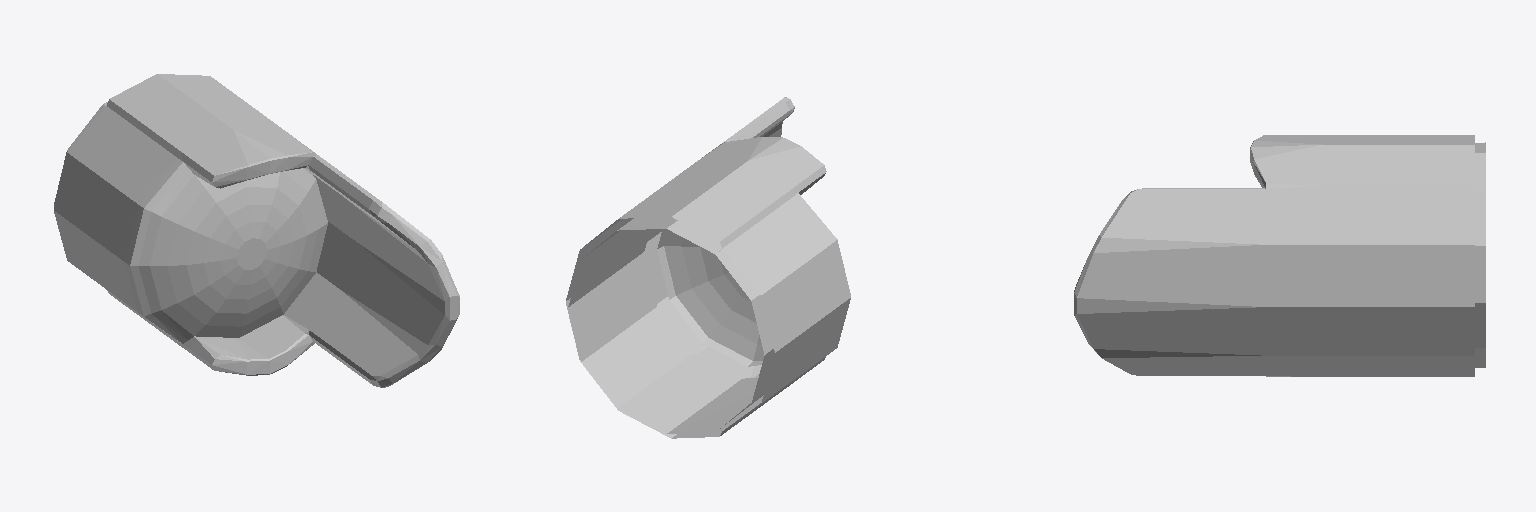
The model's file is Chair.obj.
The picture shows the model from 3 angles: view 1: azimuth 30°, elevation 25°; view 2: azimuth 150°, elevation 25°; view 3: azimuth 270°, elevation 25°; orthographic projection.
Visible parts, largest first — view 1: Chair; view 2: Chair; view 3: Chair.
Part boxes in pixels (left/top/right/bottom): Chair: left=54, top=74, right=459, bottom=387; Chair: left=566, top=97, right=850, bottom=438; Chair: left=1074, top=135, right=1485, bottom=376.
Size of the model in its own units: 1.48 by 1.5 by 2.52.